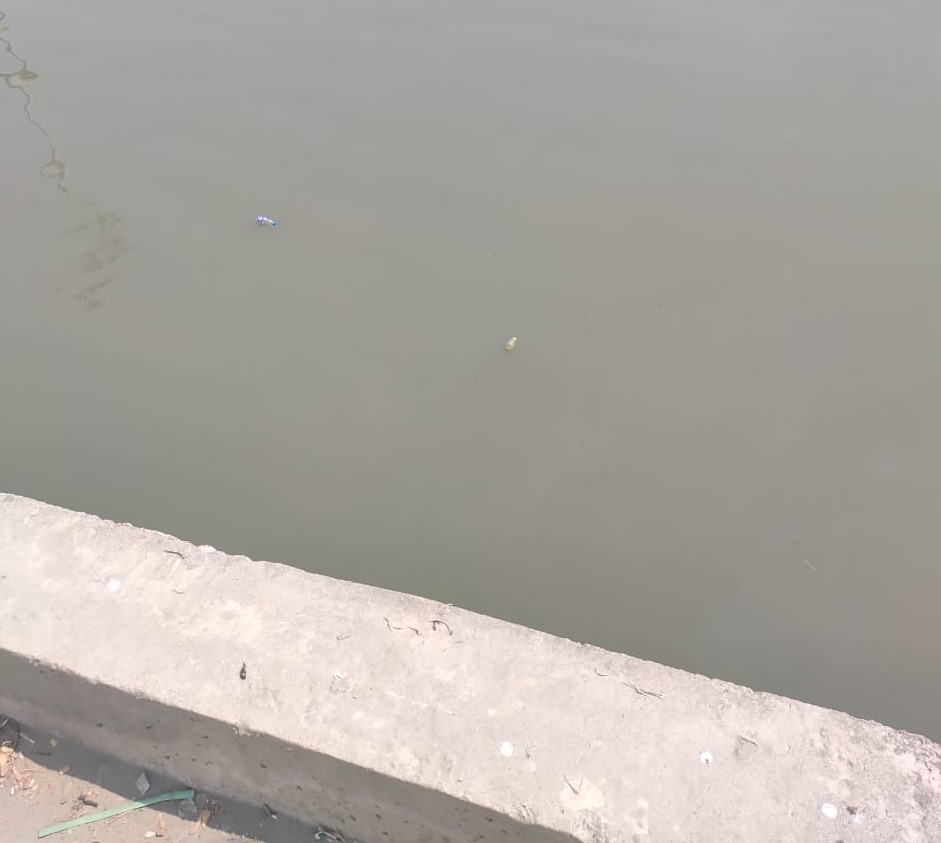Plastic Bottle: (256, 215, 276, 226), (505, 337, 516, 350)
